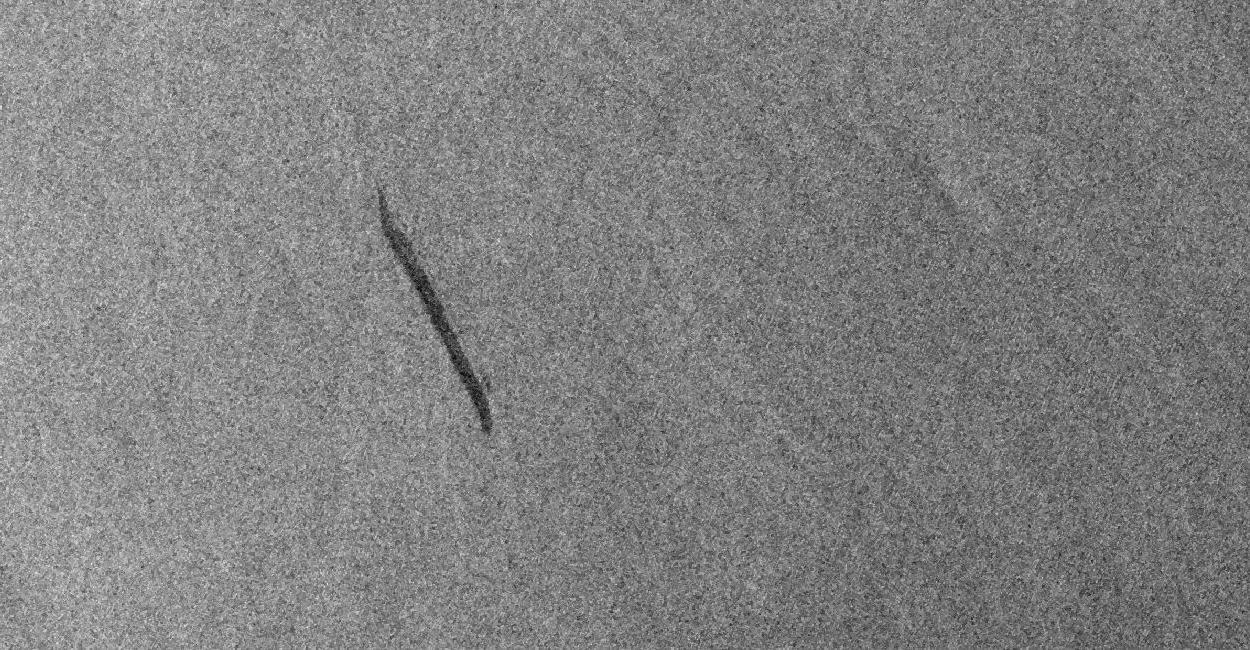Oil Spill: (377, 194, 494, 436)
